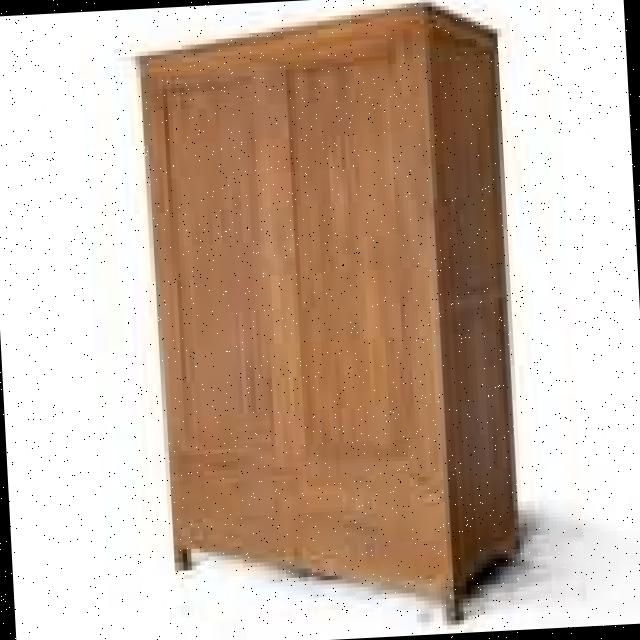Closet: (130, 0, 547, 640)
